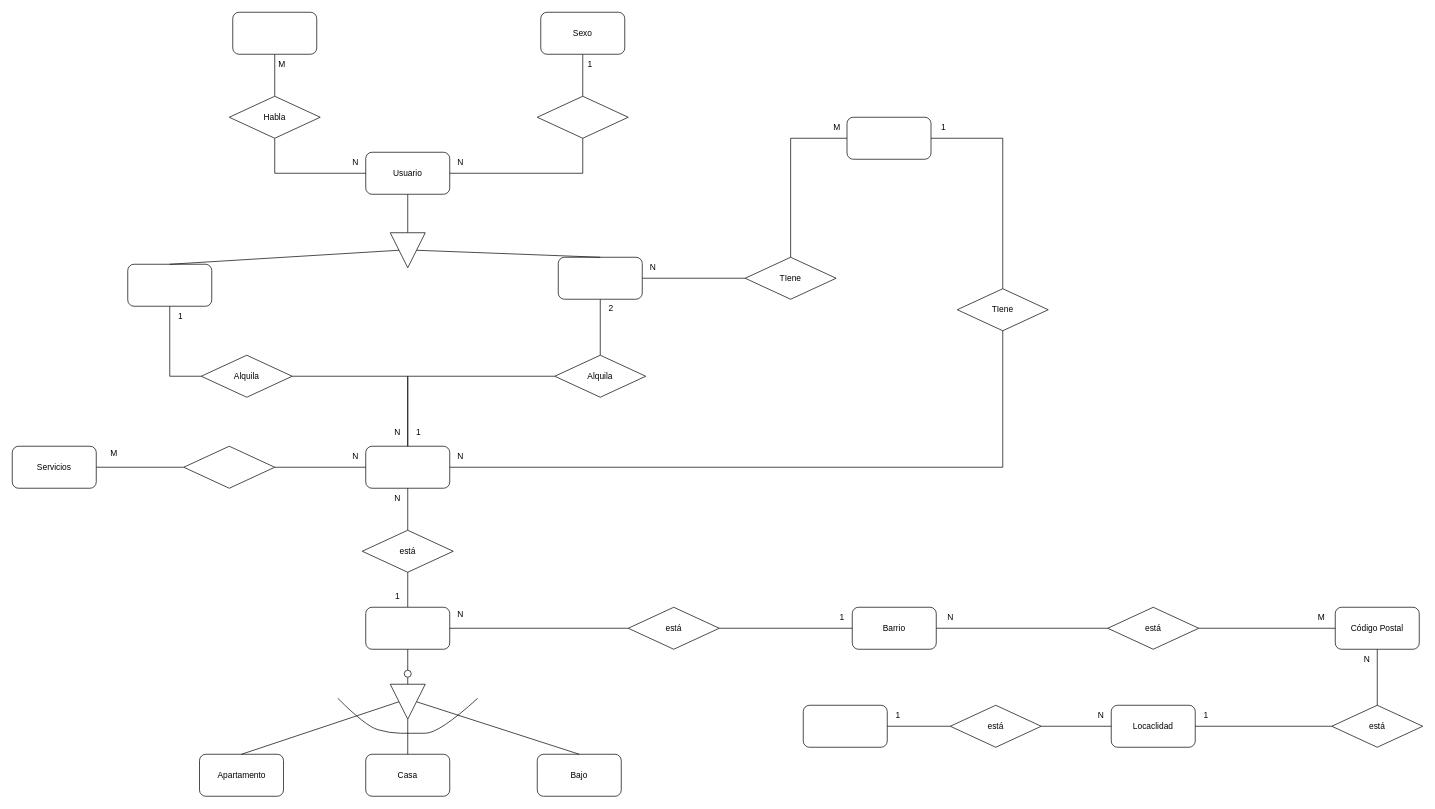
Image size: 1435x809. Some labels were removed from this diagram. The centre of each missing label's shape, as x and y in pixels:
Es: the point at 582,117
Habitacion: the point at 407,467
Habitacion Fav: the point at 888,138
Idioma: the point at 274,33
Inquilino: the point at 600,278
Ofrece: the point at 229,467
Propietario: the point at 169,285
Provincia: the point at 845,726
Vivienda: the point at 407,628
